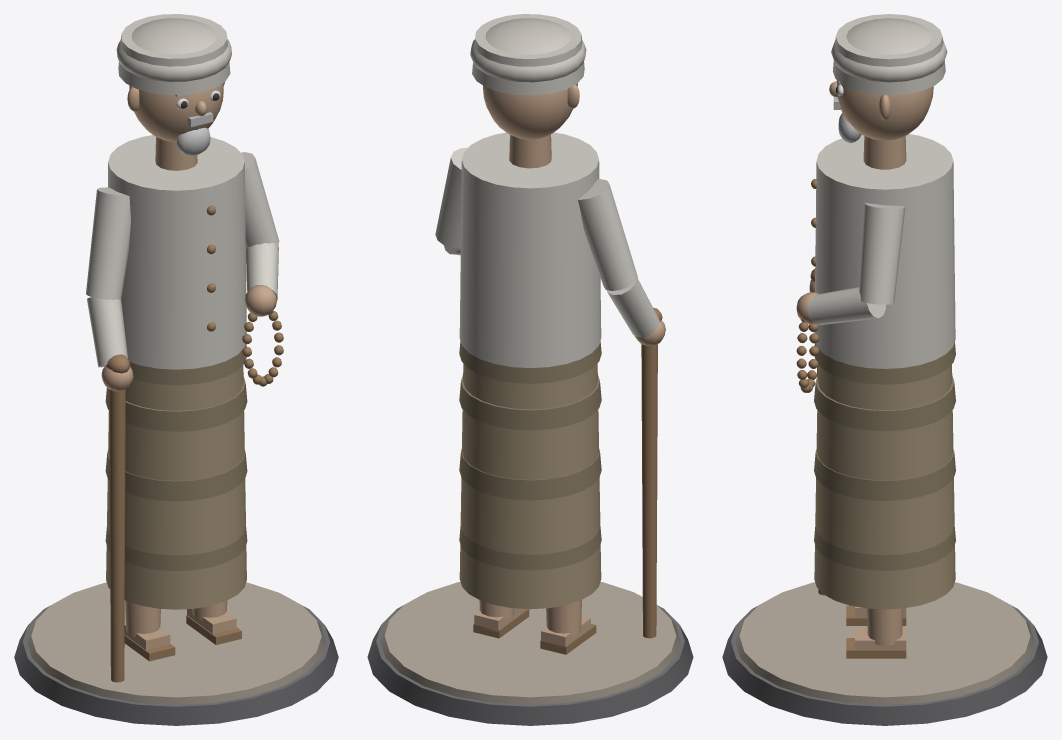
File: 4_elder_villager_character.glb
The picture shows the model from 3 angles, left to right: view 1: azimuth 30°, elevation 25°; view 2: azimuth 150°, elevation 25°; view 3: azimuth 270°, elevation 25°; orthographic projection.
Parts seen in each view (by area): view 1: Character; view 2: Character; view 3: Character.
Boxes of the visible parts, bbox=[...] form: Character: bbox=[14, 14, 338, 725]; Character: bbox=[367, 14, 693, 725]; Character: bbox=[722, 14, 1047, 725].
Bounding box in the file's own units: 0.76 × 1.62 × 0.76.
